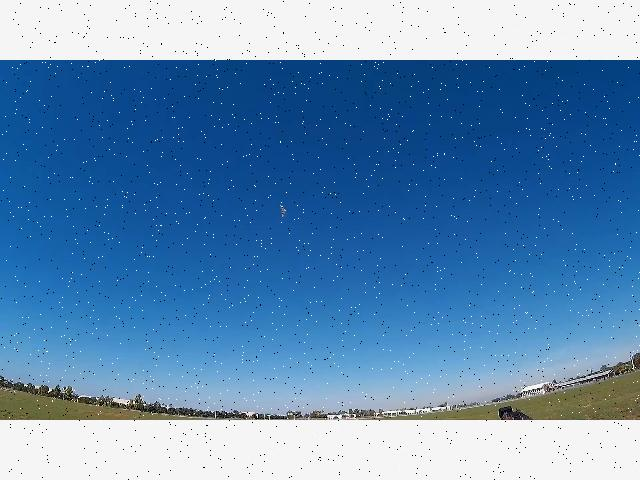Anti-Drone: (280, 206, 286, 218)
